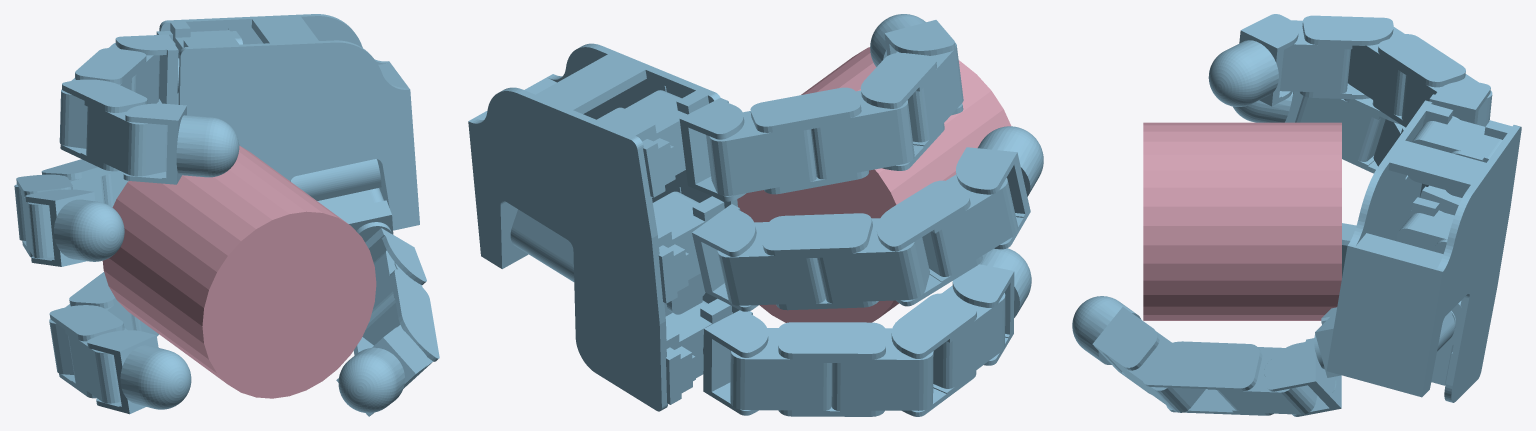
The picture shows the model from 3 angles, left to right: view 1: azimuth 30°, elevation 25°; view 2: azimuth 150°, elevation 25°; view 3: azimuth 270°, elevation 25°; orthographic projection. The views are drawn at different scales.
Parts seen in each view (by area): view 1: world, cylinder_medium.stl; view 2: world, cylinder_medium.stl; view 3: world, cylinder_medium.stl.
Boxes of the visible parts, x1,y1,x2,y2 form: world: [14, 14, 439, 416]; cylinder_medium.stl: [102, 145, 376, 398]; world: [468, 14, 1043, 416]; cylinder_medium.stl: [737, 47, 1011, 322]; world: [1072, 14, 1521, 416]; cylinder_medium.stl: [1143, 122, 1341, 320].
Bounding box in the file's own units: 0.1932 × 0.1312 × 0.1809.
